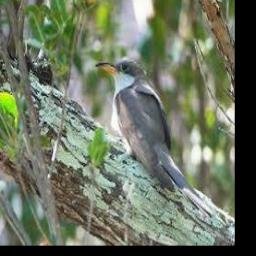Cuckoo: (96, 57, 204, 202)
